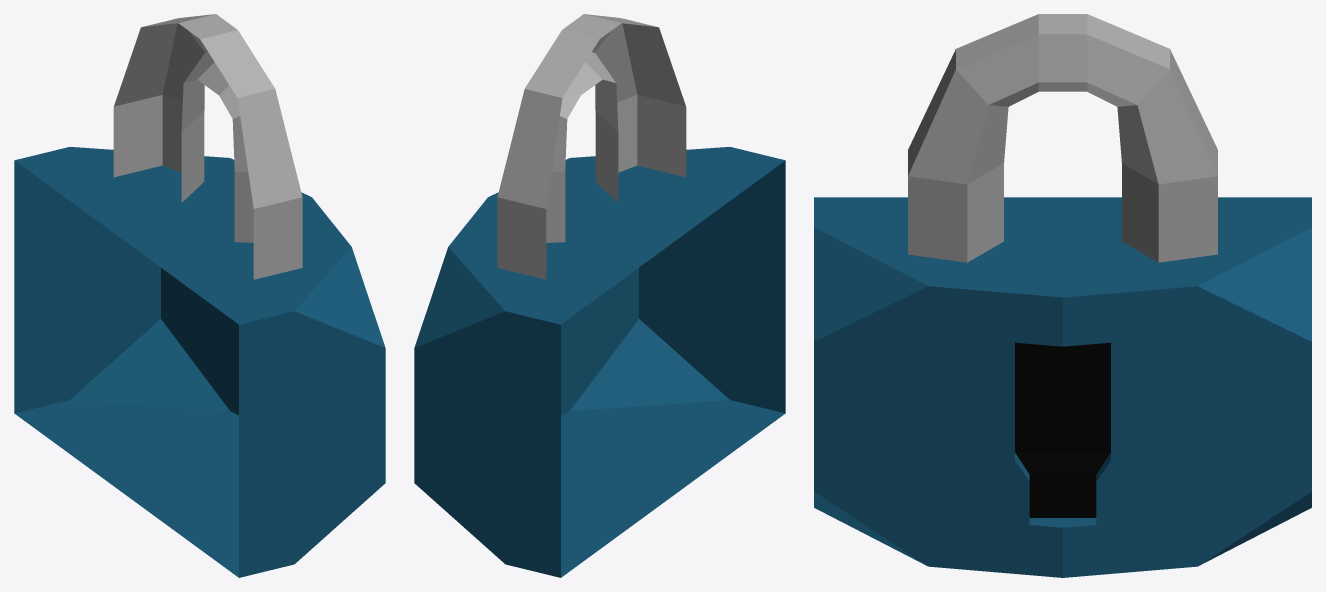
File: LockForBox.fbx
The picture shows the model from 3 angles, left to right: view 1: azimuth 30°, elevation 25°; view 2: azimuth 150°, elevation 25°; view 3: azimuth 270°, elevation 25°; orthographic projection. The views are drawn at different scales.
Parts seen in each view (by area): view 1: Cube, Cylinder; view 2: Cube, Cylinder; view 3: Cube, Cylinder.
Part boxes in pixels (x1,y1,x2,y2): Cube: (14, 147, 385, 577); Cylinder: (113, 14, 302, 279); Cube: (414, 147, 785, 577); Cylinder: (497, 14, 686, 279); Cube: (814, 197, 1311, 577); Cylinder: (908, 14, 1217, 262).
Size of the model in its own units: 71.64 by 166 by 150.
1 material, 1 textured.
